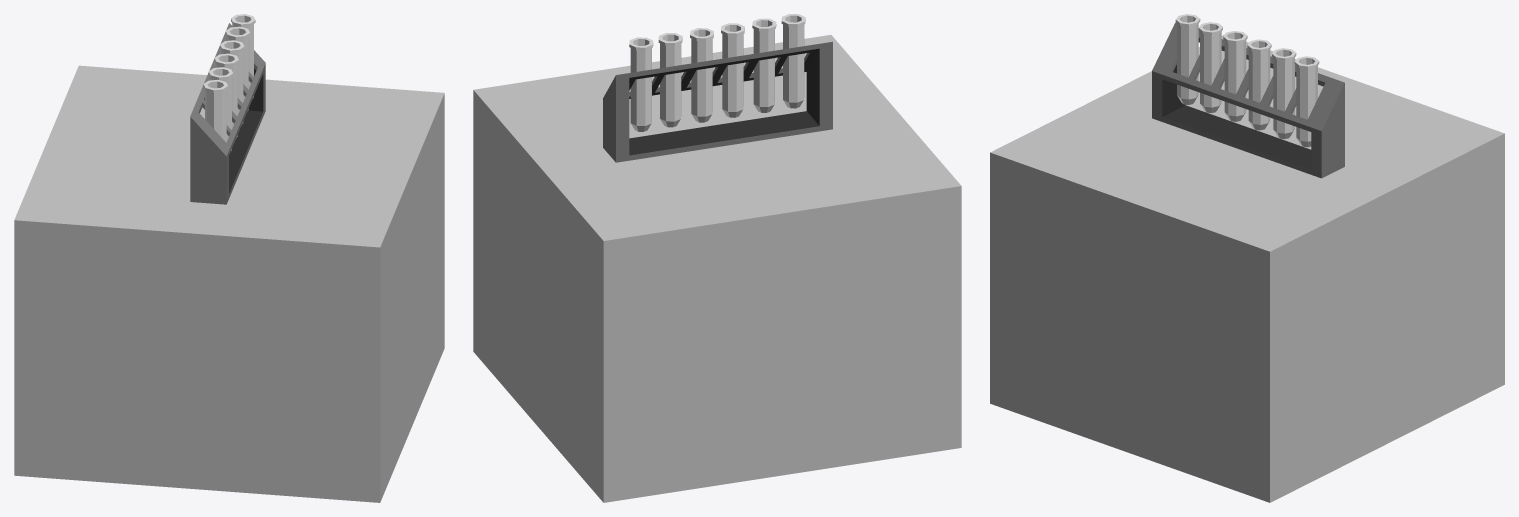
The model's file is TubosDeEnsaio.gltf.
3 renders of one model, left to right at view 1: azimuth 30°, elevation 25°; view 2: azimuth 150°, elevation 25°; view 3: azimuth 270°, elevation 25°, orthographic. The views are drawn at different scales.
Visible parts, largest first — view 1: TubosDeEnsaio; view 2: TubosDeEnsaio; view 3: TubosDeEnsaio.
Part boxes in pixels (<box>): TubosDeEnsaio: <box>14,14,444,502</box>; TubosDeEnsaio: <box>473,14,961,502</box>; TubosDeEnsaio: <box>990,14,1504,502</box>.
Bounding box in the file's own units: 1.57 × 1.19 × 1.57.
Materials: 1 (1 with a texture image).
